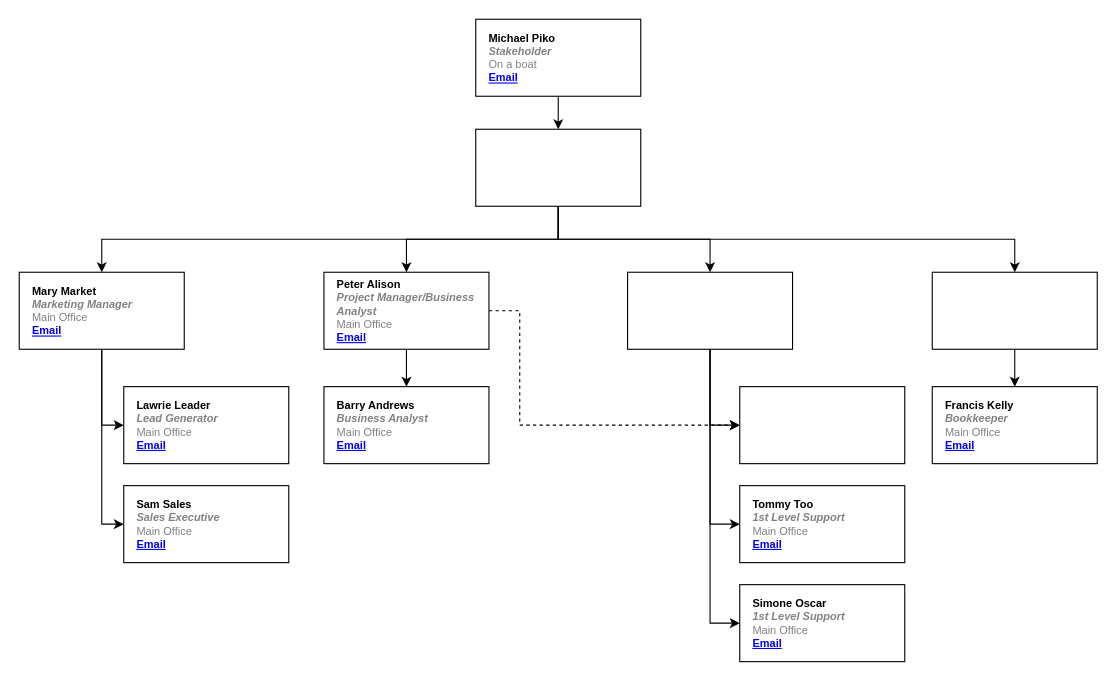
This 1117x681 diagram has some shape labels left out. Each missing label, with the centre of its shape:
Christine Foster Finance Manager Main Office Email: [1014,310]
Freddie Thomas Functional Technician Main Office Email: [822,425]
Jane Howett Chief Operating Officer (COO) Main Office Email: [558,167]
Malcolm O'Brian Operations Manager Main Office Email: [709,310]
